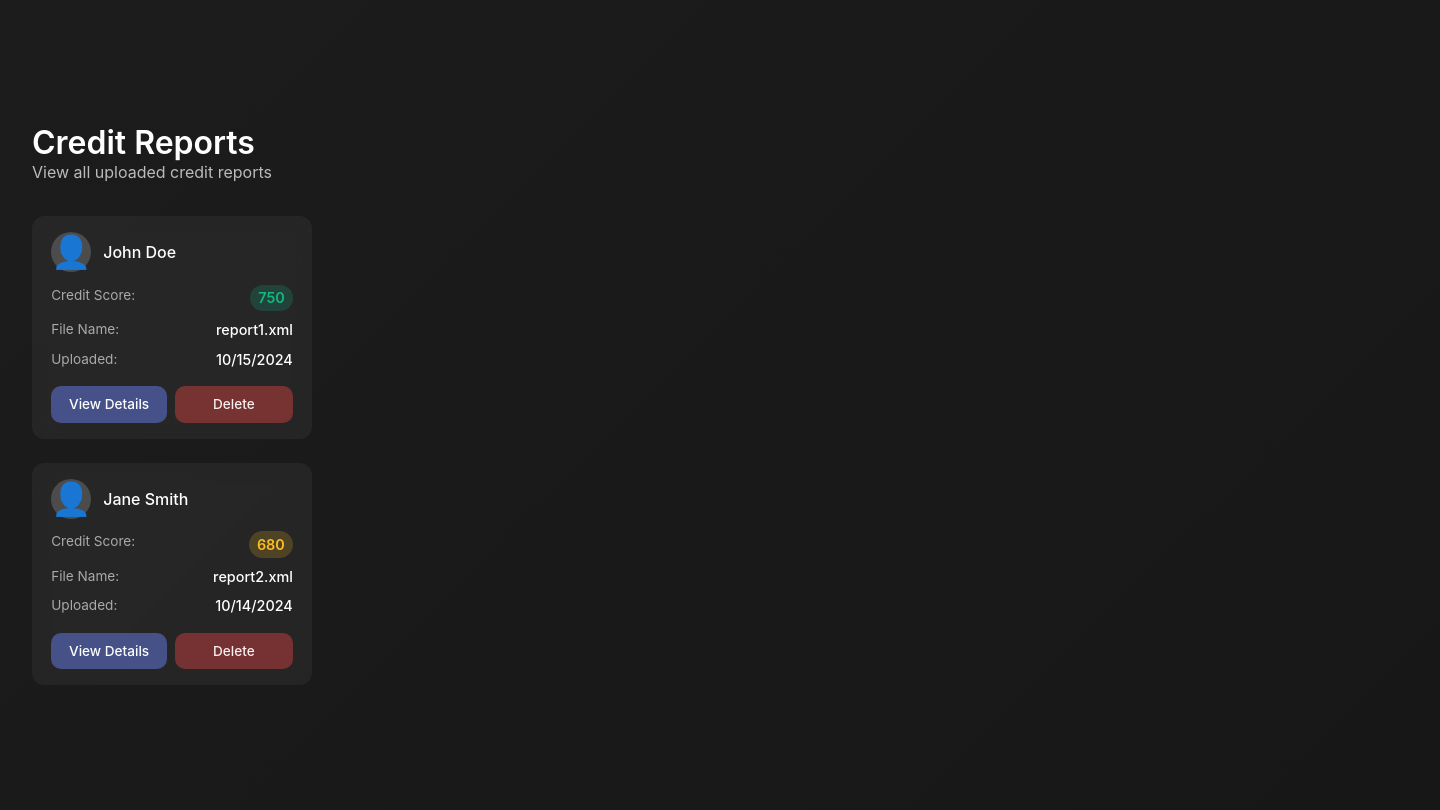
Scenario: ReportsListPage Component Tests › Report Actions › successfully deletes report when confirmed
Check: the heading "John Doe" is shown, box [103,240,176,264]
Click the button "Delete" below "10/15/2024": [234, 404] box [175,386,293,423]
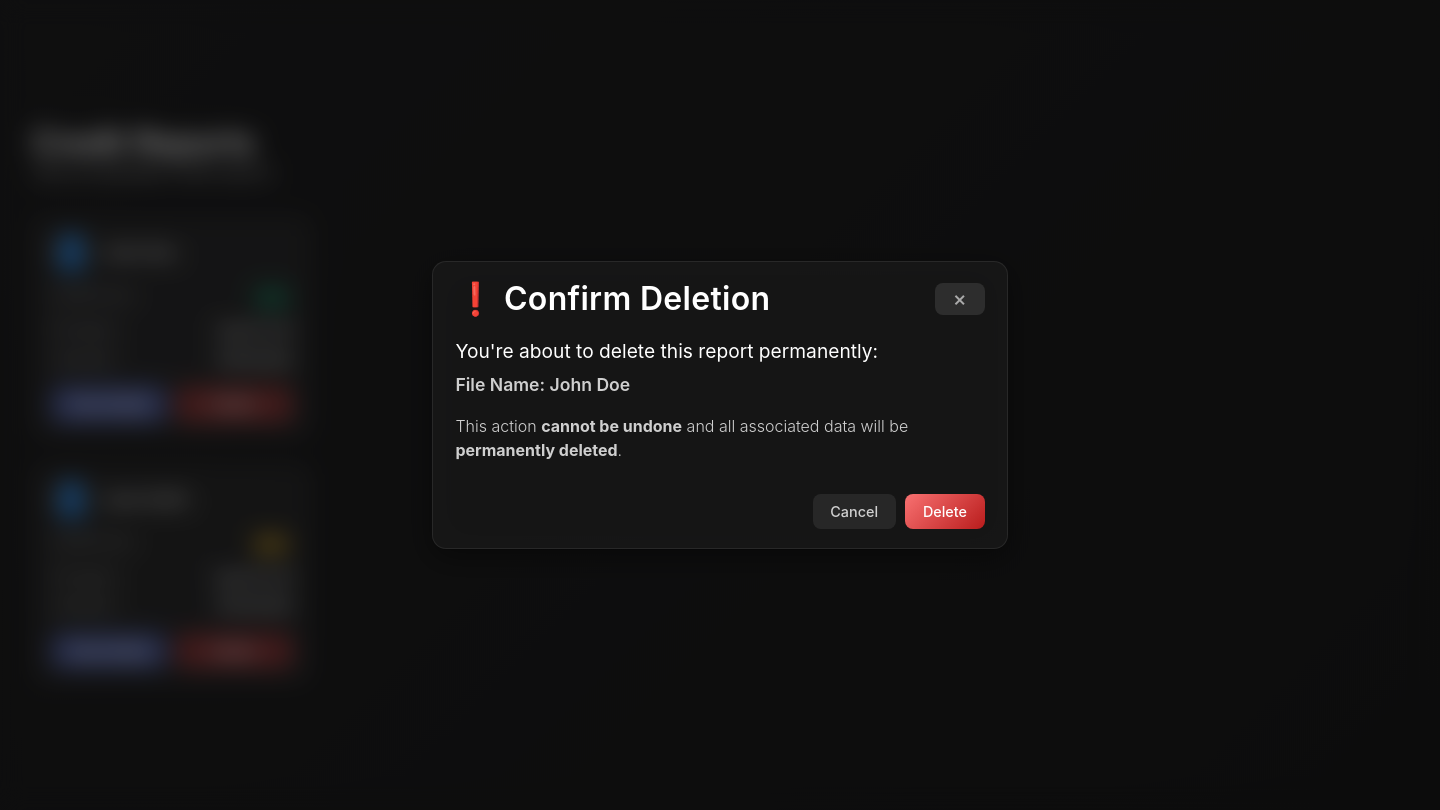
Check: the heading "❗ Confirm Deletion" is shown, box [455,281,770,316]
Click the button with class "confirm-delete-btn": [945, 512] box [905,494,985,529]
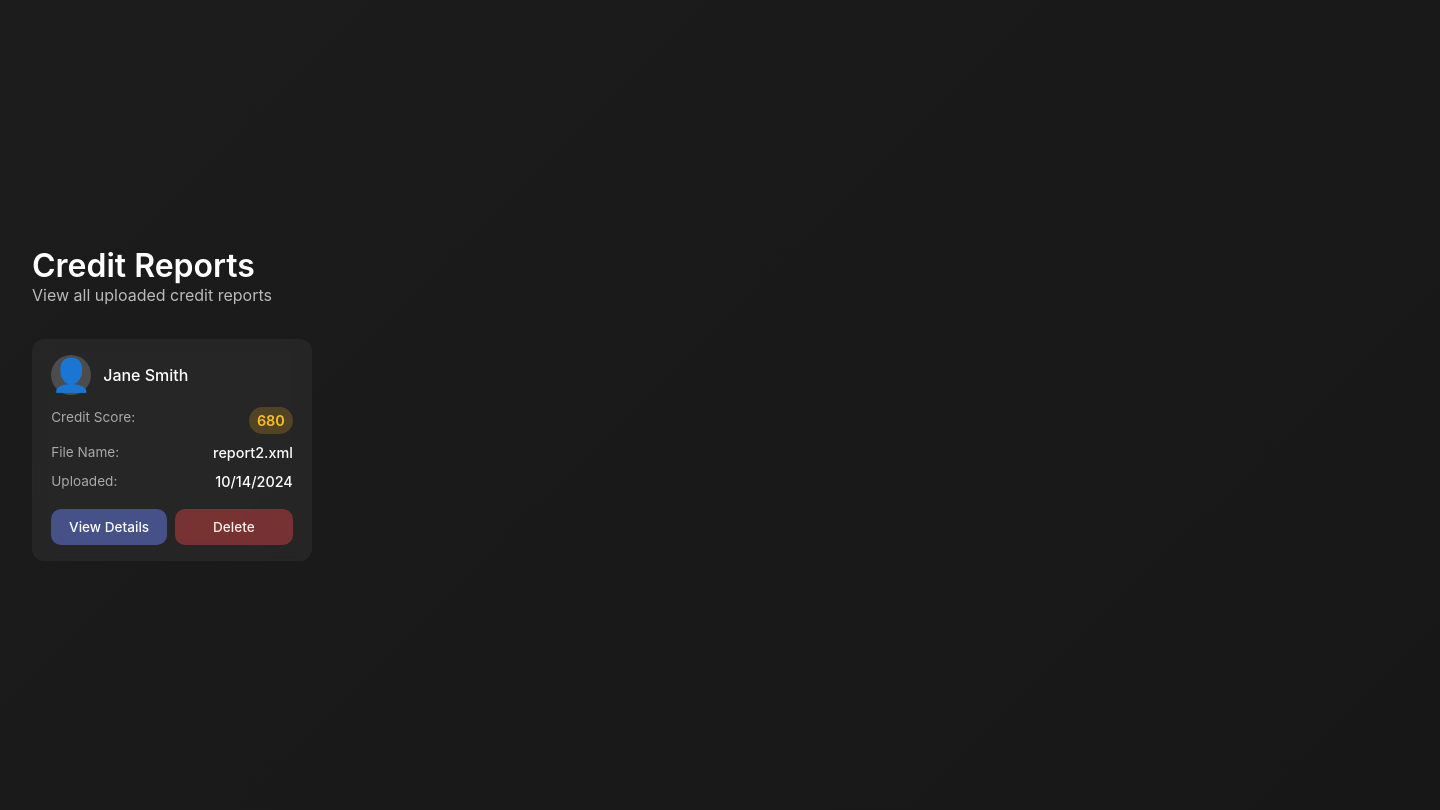
Check: the heading "Jane Smith" is shown, box [103,363,188,387]
Check: the heading "John Doe" is gone
